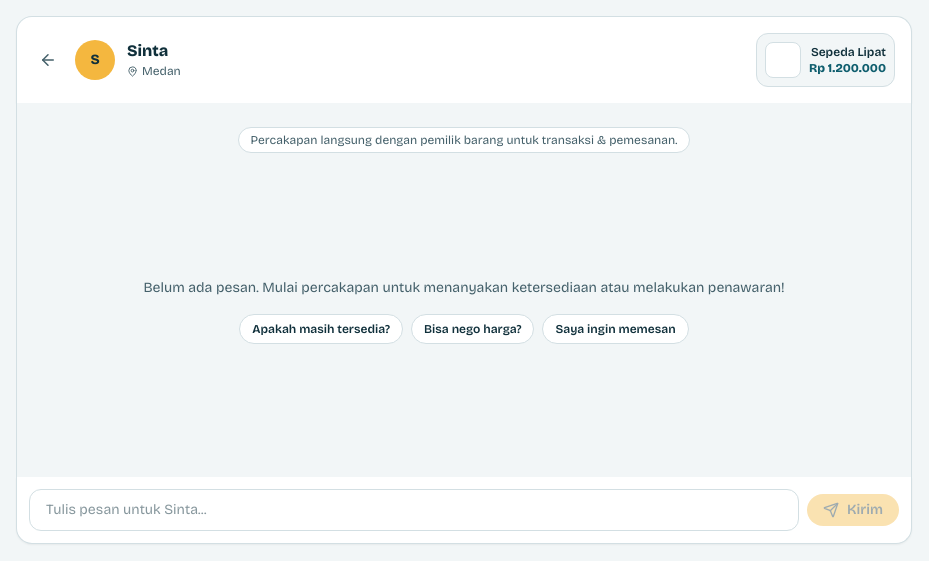
Test case: ChatPage › tombol cepat 'Bisa nego harga?' mengirim pesan
The image size is (929, 561).
Click the button "Bisa nego harga?".
click(473, 329)  # box [411, 314, 534, 344]
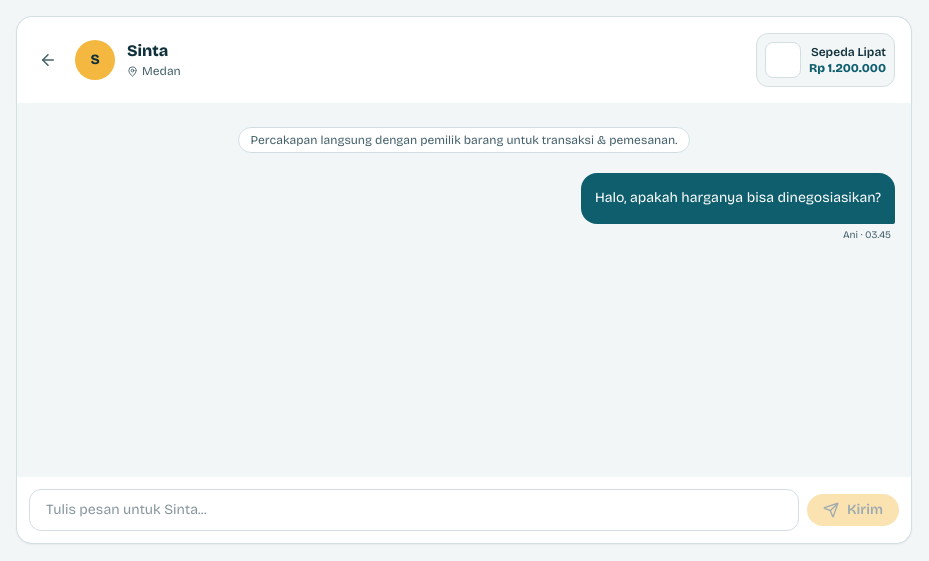
Check: the text "Ani · 03.45" is shown, box [839, 228, 895, 243]
